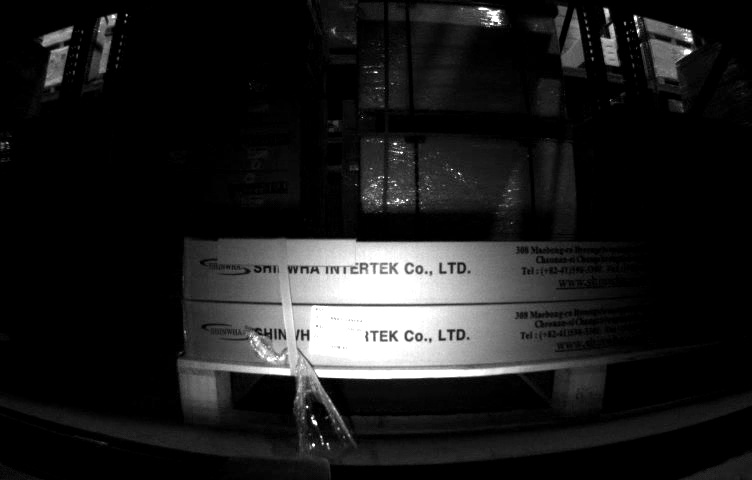True Barcode: (310, 304, 365, 364)
